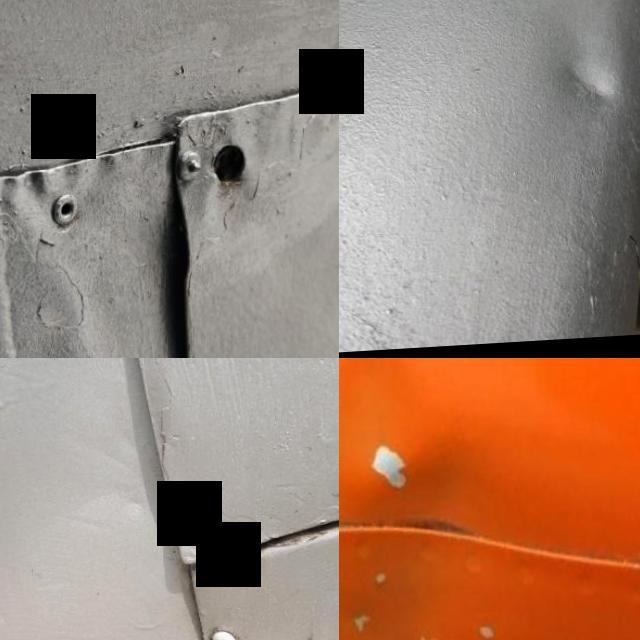Dent: (339, 434, 526, 640), (522, 20, 637, 146)
Missing_Fastener: (154, 98, 284, 232), (160, 488, 242, 573)
